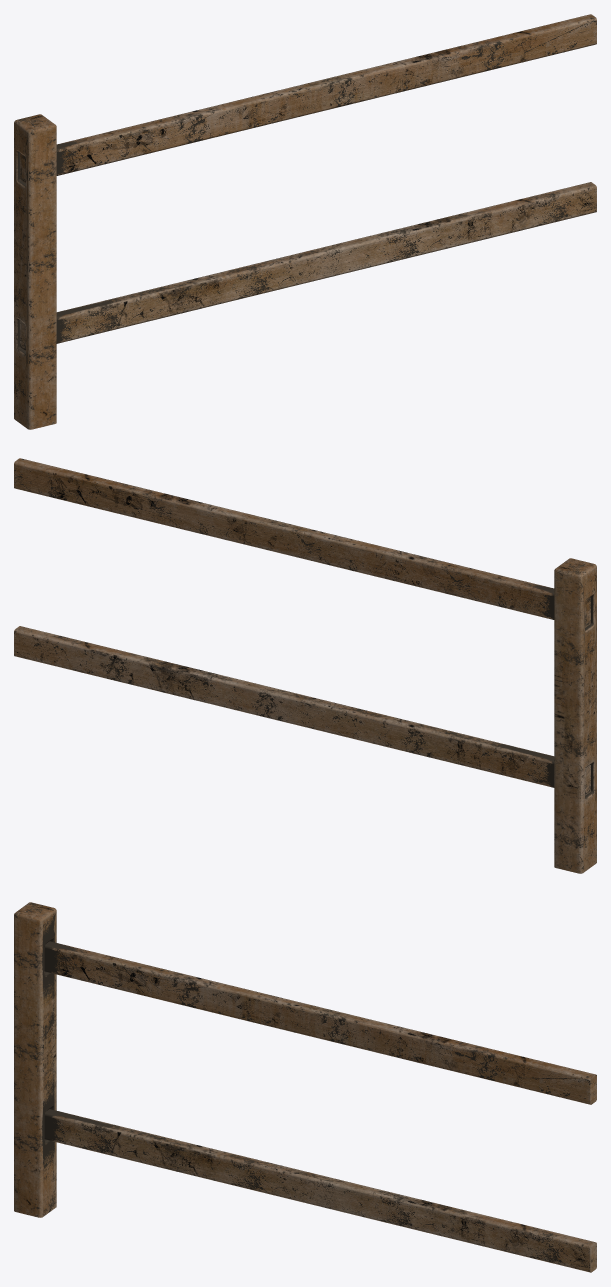
File: partial_wood_fence.glb
The picture shows the model from 3 angles, top to bottom: view 1: azimuth 30°, elevation 25°; view 2: azimuth 150°, elevation 25°; view 3: azimuth 330°, elevation 25°; orthographic projection.
Parts seen in each view (by area): view 1: partial_wood_fence; view 2: partial_wood_fence; view 3: partial_wood_fence.
Boxes of the visible parts, x1,y1,x2,y2 form: partial_wood_fence: (14, 14, 596, 429); partial_wood_fence: (14, 458, 596, 873); partial_wood_fence: (14, 902, 596, 1272).
Bounding box in the file's own units: 2.01 × 1 × 0.1.
Materials: 1 (1 with a texture image).
